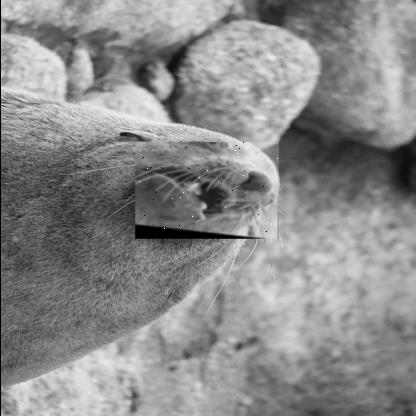face: (133, 142, 278, 240)
